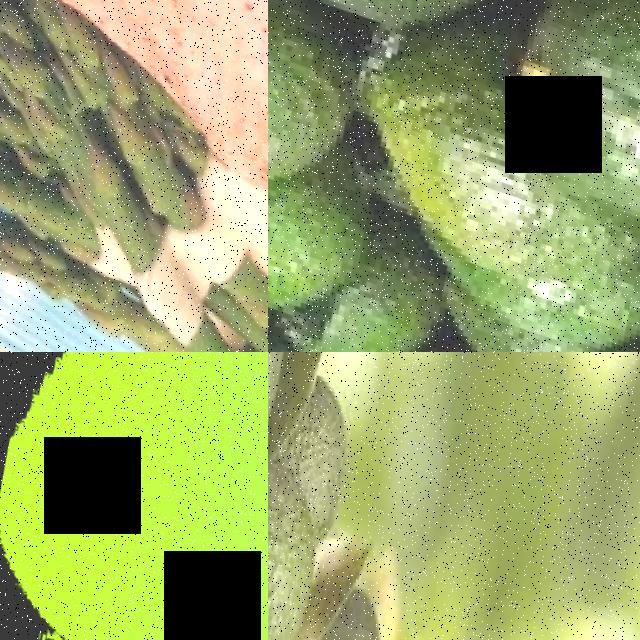apple: (0, 352, 268, 640)
asparagus: (0, 44, 153, 203), (0, 211, 125, 315)
avocado: (330, 0, 640, 323), (485, 0, 640, 253), (268, 0, 385, 233), (268, 140, 366, 345), (268, 365, 370, 553), (268, 438, 334, 640), (290, 570, 395, 640)
